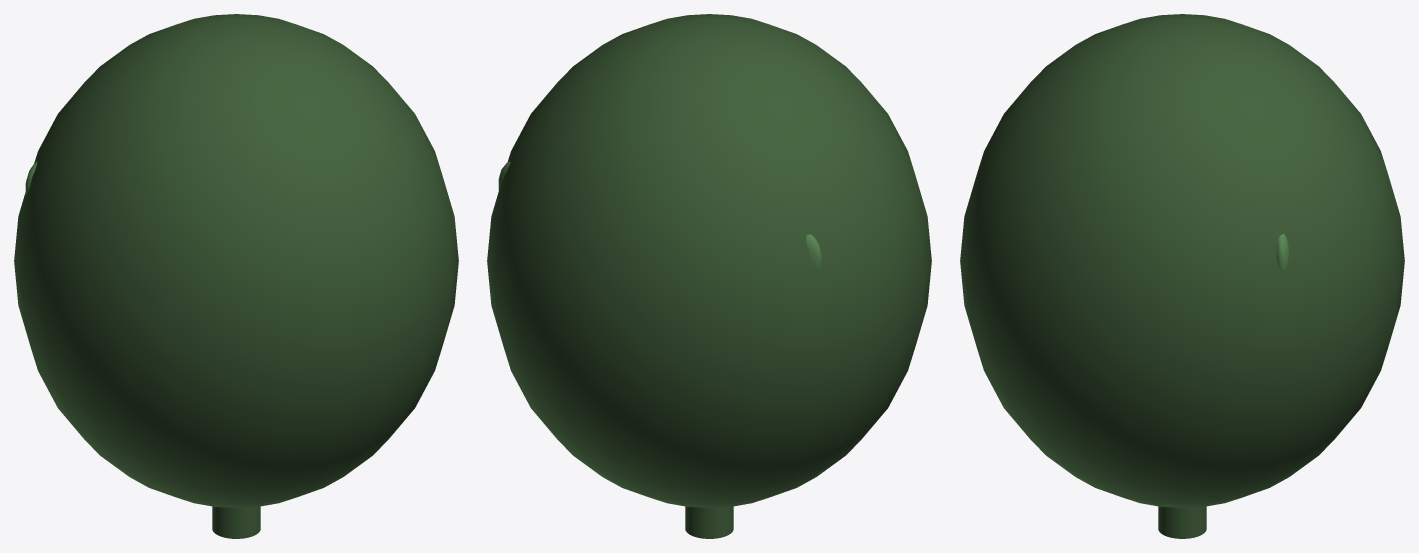
File: wp-artichaut.glb
The picture shows the model from 3 angles, left to right: view 1: azimuth 30°, elevation 25°; view 2: azimuth 150°, elevation 25°; view 3: azimuth 270°, elevation 25°; orthographic projection.
Parts seen in each view (by area): view 1: wp-artichaut; view 2: wp-artichaut; view 3: wp-artichaut.
Part boxes in pixels (bbox=[...]): wp-artichaut: bbox=[14, 14, 458, 538]; wp-artichaut: bbox=[487, 14, 931, 538]; wp-artichaut: bbox=[960, 14, 1404, 538].
Bounding box in the file's own units: 0.13 × 0.16 × 0.13.
